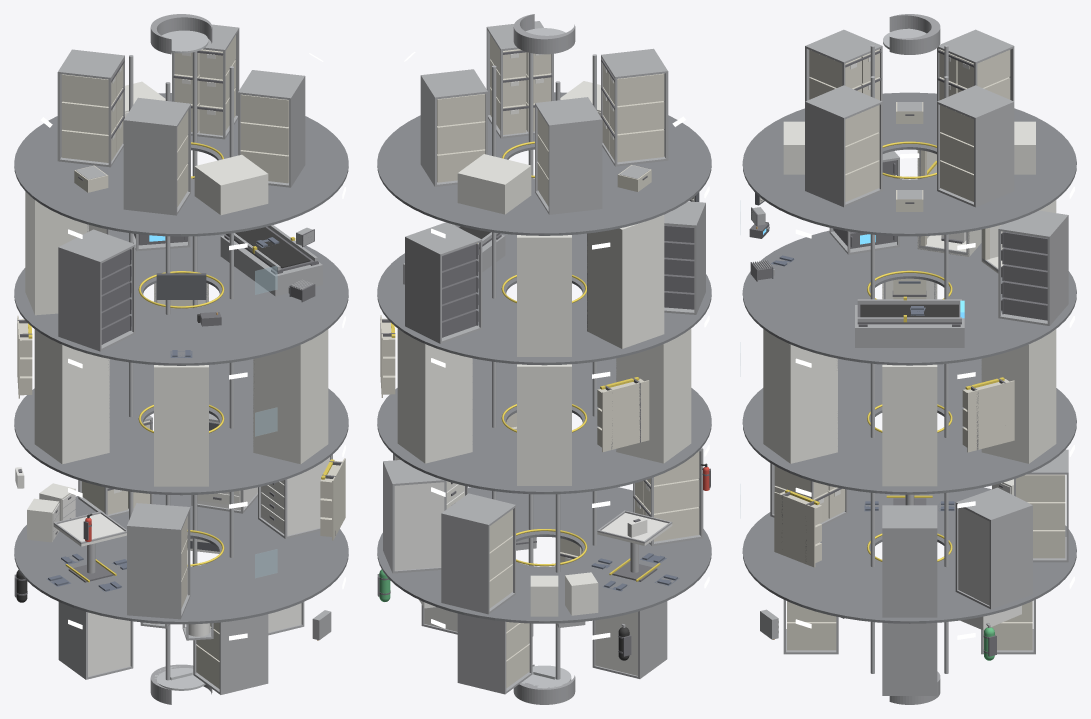
The model's file is station02_b330_deployed_cutaway.glb.
3 renders of one model, left to right at view 1: azimuth 30°, elevation 25°; view 2: azimuth 150°, elevation 25°; view 3: azimuth 270°, elevation 25°, orthographic.
Visible parts, largest first — view 1: decks, eq23_6_shell, eq23_4_shell, eq23_5_shell, eq27_7_rack_frame, eq27_4_rack_frame, eq05_1_rack_frame, eq27_6_stowage_bags, core_frame, eq24_2_shell, eq27_2_rack_frame, eq27_8_stowage_bags (+32 smaller); view 2: decks, eq24_2_shell, eq23_2_shell, eq24_1_shell, eq23_3_shell, eq27_6_rack_frame, eq23_4_shell, eq27_3_rack_frame, eq05_2_rack_frame, eq27_7_stowage_bags, eq25_2_body, core_frame (+30 smaller); view 3: decks, eq23_6_shell, eq23_1_shell, eq25_1_rack_frame, eq23_2_shell, eq25_2_rack_frame, eq27_8_rack_frame, eq27_5_rack_frame, eq28_1_rack_frame, eq05_2, eq05_2_rack_frame, eq27_3_stowage_bags (+29 smaller).
Part boxes in pixels (left/top/right/bottom): decks: left=14, top=93, right=348, bottom=624; eq23_6_shell: left=253, top=329, right=328, bottom=464; eq23_4_shell: left=34, top=329, right=109, bottom=464; eq23_5_shell: left=154, top=365, right=208, bottom=486; eq27_7_rack_frame: left=123, top=97, right=190, bottom=215; eq27_4_rack_frame: left=127, top=503, right=190, bottom=619; eq05_1_rack_frame: left=58, top=229, right=135, bottom=351; eq27_6_stowage_bags: left=61, top=64, right=123, bottom=162; core_frame: left=129, top=51, right=233, bottom=680; eq24_2_shell: left=25, top=191, right=88, bottom=315; eq27_2_rack_frame: left=193, top=614, right=268, bottom=694; eq27_8_stowage_bags: left=240, top=94, right=288, bottom=183; decks: left=377, top=92, right=711, bottom=623; eq24_2_shell: left=587, top=215, right=664, bottom=348; eq23_2_shell: left=397, top=328, right=472, bottom=463; eq24_1_shell: left=517, top=235, right=571, bottom=356; eq23_3_shell: left=517, top=364, right=571, bottom=485; eq27_6_rack_frame: left=535, top=97, right=602, bottom=214; eq23_4_shell: left=616, top=328, right=691, bottom=463; eq27_3_rack_frame: left=441, top=493, right=515, bottom=614; eq05_2_rack_frame: left=405, top=222, right=482, bottom=343; eq27_7_stowage_bags: left=602, top=64, right=664, bottom=162; eq25_2_body: left=394, top=482, right=444, bottom=570; core_frame: left=492, top=52, right=596, bottom=679; decks: left=742, top=92, right=1076, bottom=623; eq23_6_shell: left=763, top=329, right=837, bottom=463; eq23_1_shell: left=882, top=364, right=937, bottom=486; eq25_1_rack_frame: left=882, top=505, right=937, bottom=617; eq23_2_shell: left=981, top=329, right=1056, bottom=463; eq25_2_rack_frame: left=955, top=487, right=1032, bottom=609; eq27_8_rack_frame: left=805, top=85, right=882, bottom=207; eq27_5_rack_frame: left=937, top=85, right=1014, bottom=207; eq28_1_rack_frame: left=882, top=623, right=937, bottom=695; eq05_2: left=1001, top=231, right=1047, bottom=320; eq05_2_rack_frame: left=998, top=210, right=1068, bottom=325; eq27_3_stowage_bags: left=1016, top=474, right=1065, bottom=558.
Size of the model in its own units: 6.1 by 13.39 by 6.15.
